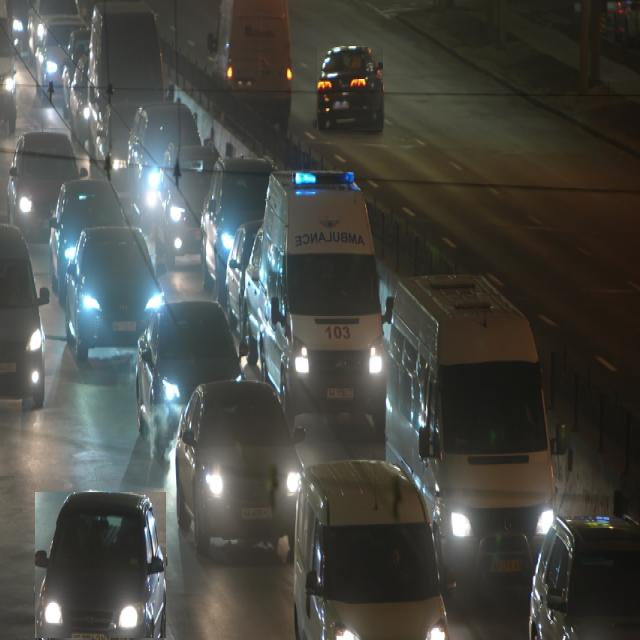car: (35, 492, 166, 638), (318, 46, 383, 130)
emergency: (259, 171, 392, 433)
